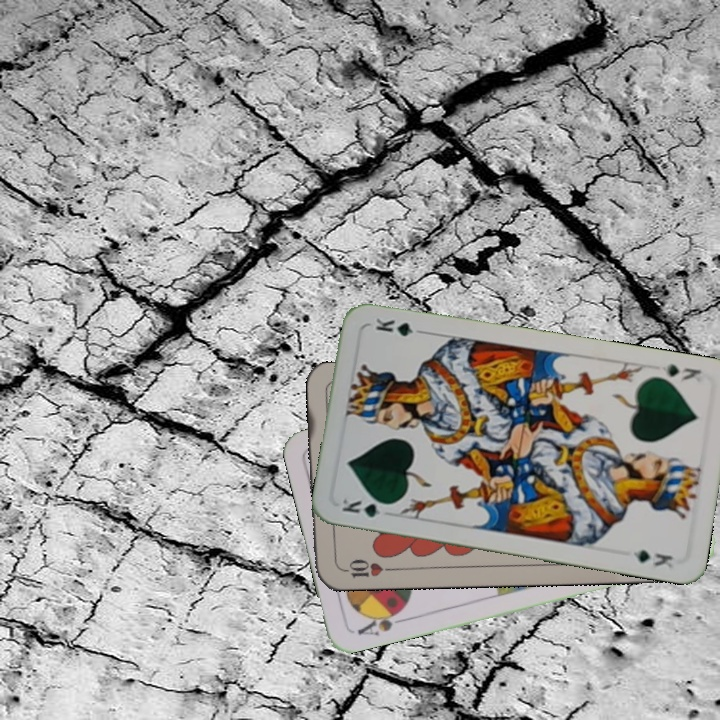GK: (338, 495, 396, 521), (658, 360, 704, 384)
H10: (336, 555, 395, 581)
SA: (353, 604, 410, 639)
